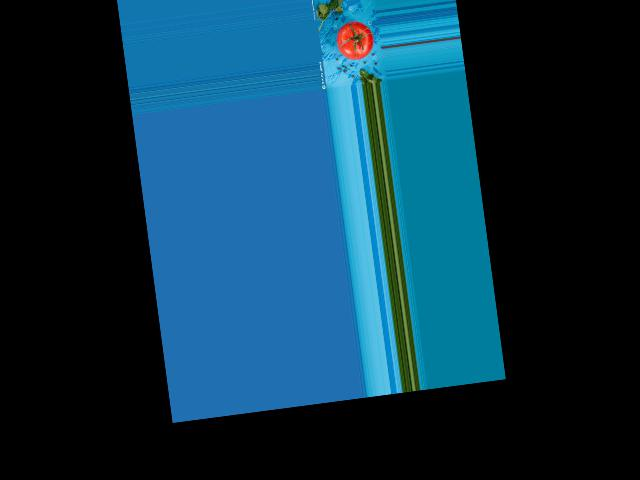tomato: (334, 18, 375, 61)
